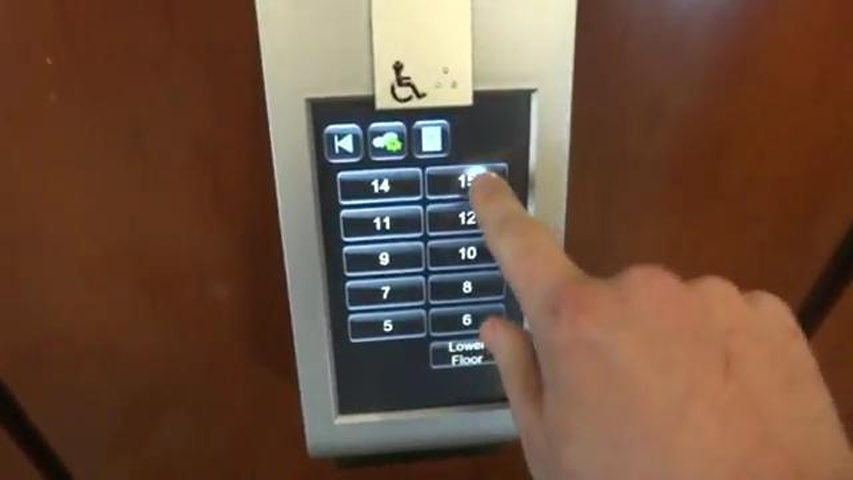10: (425, 234, 510, 270)
11: (338, 204, 424, 243)
12: (424, 199, 510, 236)
14: (335, 167, 425, 204)
5: (347, 307, 428, 341)
6: (428, 303, 507, 337)
7: (343, 276, 426, 310)
8: (427, 269, 508, 303)
9: (342, 240, 424, 276)
CH: (374, 53, 433, 107)
text: (429, 337, 509, 368)
unknown: (424, 164, 510, 199), (365, 119, 408, 162), (410, 118, 453, 161), (319, 122, 363, 164)
